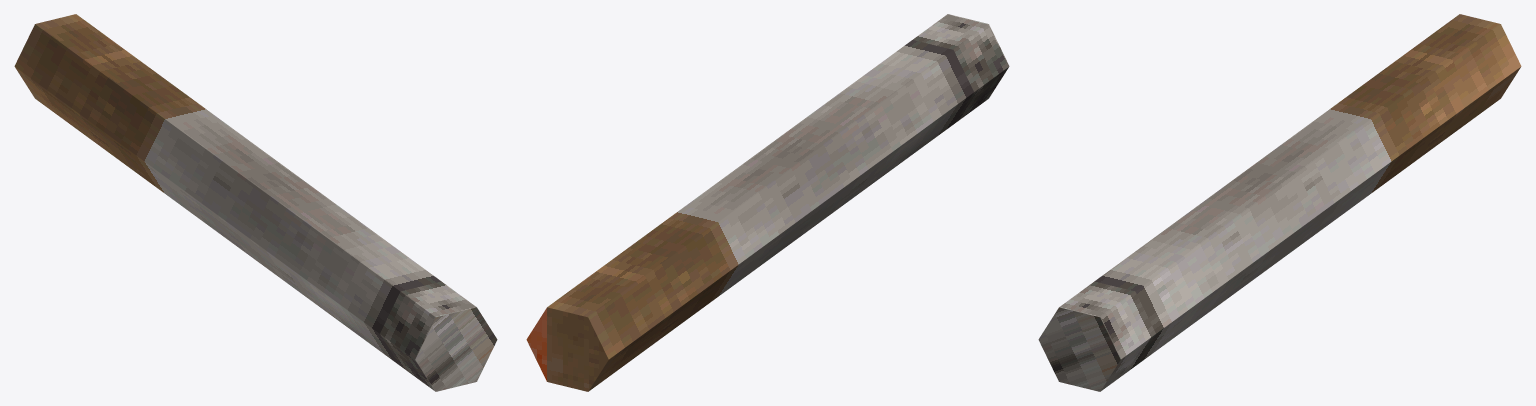
Rendered from recovered_gear_cigarette_c6e9a16700bd.glb.
3 views of the same model, side by side, from view 1: azimuth 30°, elevation 25°; view 2: azimuth 150°, elevation 25°; view 3: azimuth 330°, elevation 25° (orthographic).
Parts seen in each view (by area): view 1: cigarette; view 2: cigarette; view 3: cigarette.
Part boxes in pixels (x1=…): cigarette: x1=14, y1=14, x2=497, y2=391; cigarette: x1=526, y1=14, x2=1009, y2=391; cigarette: x1=1038, y1=14, x2=1521, y2=391.
Size of the model in its own units: 0.0147 by 0.0127 by 0.124.
1 material, 1 textured.
